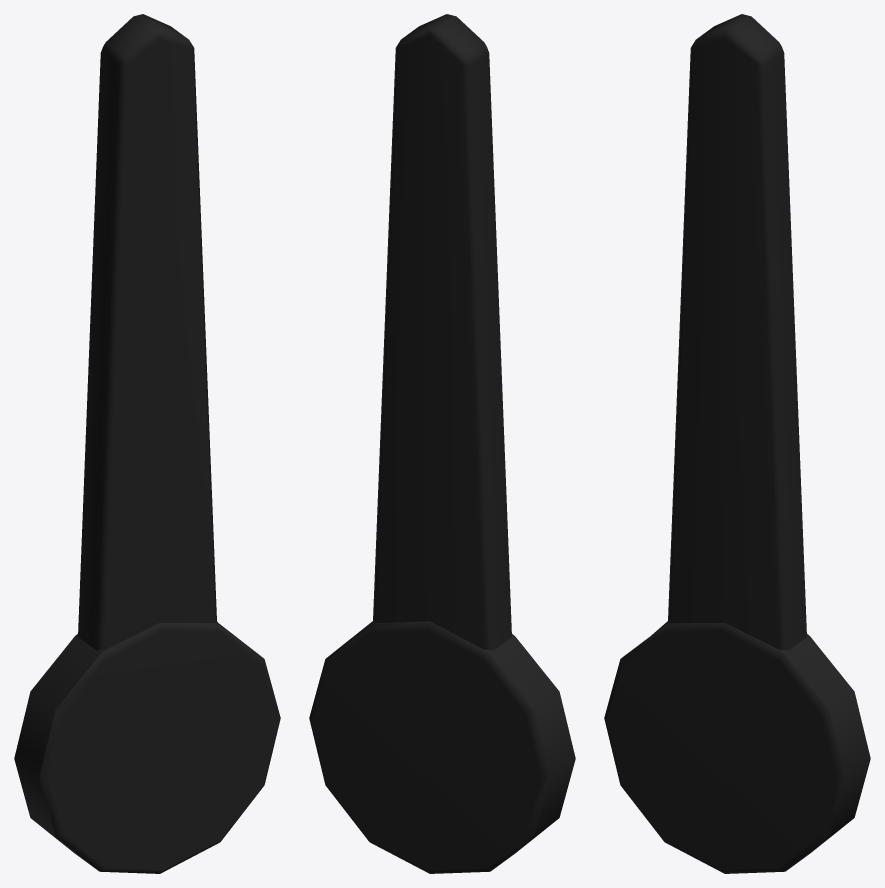
Rendered from Chess_Clock_HourHand_02.fbx.
The picture shows the model from 3 angles, left to right: view 1: azimuth 30°, elevation 25°; view 2: azimuth 150°, elevation 25°; view 3: azimuth 330°, elevation 25°; orthographic projection.
Parts seen in each view (by area): view 1: Chess_Clock_HourHand_02; view 2: Chess_Clock_HourHand_02; view 3: Chess_Clock_HourHand_02.
Boxes of the visible parts, box(x1,y1,x2,y2) form: Chess_Clock_HourHand_02: box(14, 14, 280, 873); Chess_Clock_HourHand_02: box(309, 14, 575, 873); Chess_Clock_HourHand_02: box(604, 14, 870, 873).
Bounding box in the file's own units: 0.4996 × 1.67 × 0.1152.
